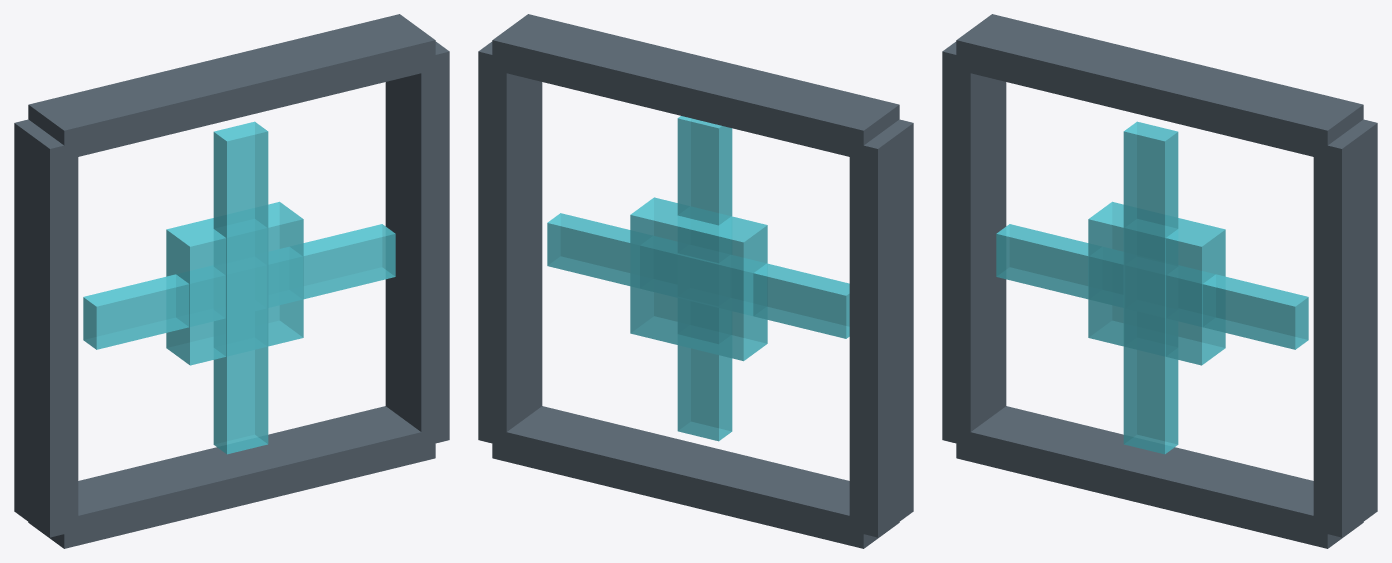
The picture shows the model from 3 angles, left to right: view 1: azimuth 30°, elevation 25°; view 2: azimuth 150°, elevation 25°; view 3: azimuth 330°, elevation 25°; orthographic projection.
Visible parts, largest first — view 1: fan frame left, fan frame top, fan frame right, fan frame bottom, fan hub, fan blade vertical, fan blade horizontal; view 2: fan frame left, fan frame top, fan frame right, fan frame bottom, fan hub, fan blade horizontal, fan blade vertical; view 3: fan frame right, fan frame top, fan frame left, fan frame bottom, fan hub, fan blade vertical, fan blade horizontal.
Part boxes in pixels (x1,y1,x2,y2): fan frame left: [14, 119, 78, 537]; fan frame top: [28, 14, 435, 159]; fan frame right: [385, 41, 449, 445]; fan frame bottom: [28, 406, 435, 548]; fan hub: [166, 201, 303, 365]; fan blade vertical: [213, 121, 268, 454]; fan blade horizontal: [83, 224, 395, 349]; fan frame left: [849, 119, 913, 537]; fan frame top: [492, 14, 899, 159]; fan frame right: [478, 41, 542, 446]; fan frame bottom: [492, 406, 899, 548]; fan hub: [630, 197, 767, 361]; fan blade horizontal: [547, 213, 849, 338]; fan blade vertical: [677, 116, 732, 441]; fan frame right: [1313, 119, 1377, 537]; fan frame top: [956, 14, 1363, 159]; fan frame left: [942, 41, 1006, 446]; fan frame bottom: [956, 406, 1363, 548]; fan hub: [1088, 201, 1225, 365]; fan blade vertical: [1123, 121, 1178, 454]; fan blade horizontal: [996, 224, 1308, 349].
Bounding box in the file's own units: 0.775 × 0.775 × 0.12.
